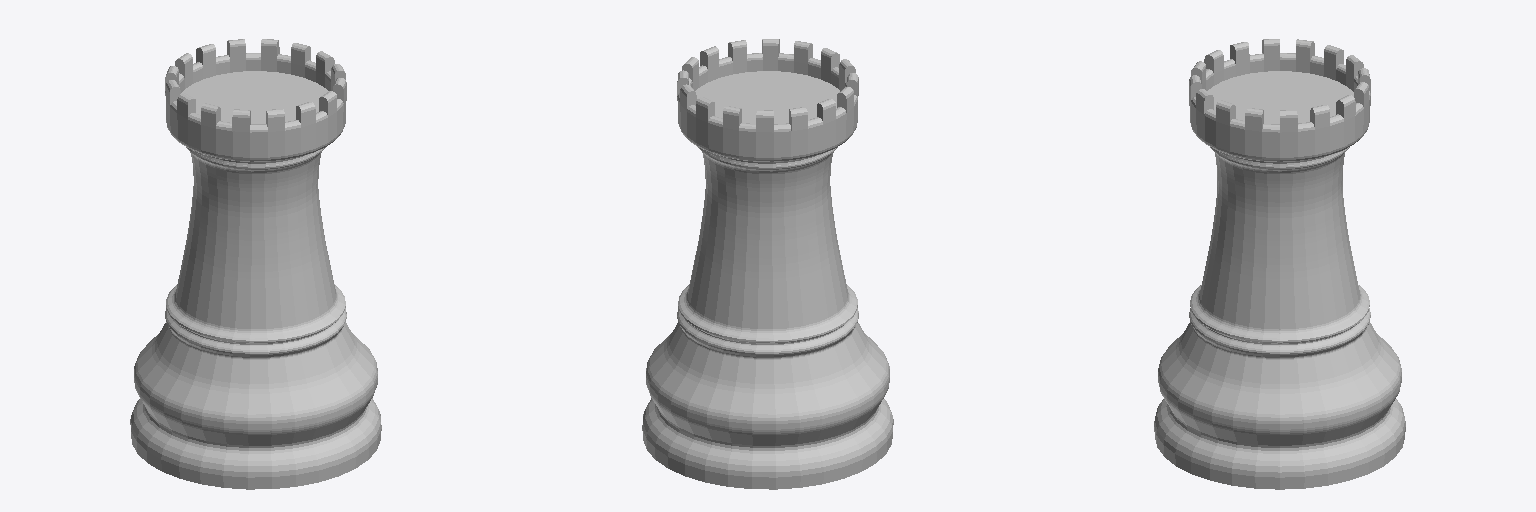
The model's file is rock.obj.
The picture shows the model from 3 angles: view 1: azimuth 30°, elevation 25°; view 2: azimuth 150°, elevation 25°; view 3: azimuth 270°, elevation 25°; orthographic projection.
Visible parts, largest first — view 1: Dark_Rock_2_Cylinder.010; view 2: Dark_Rock_2_Cylinder.010; view 3: Dark_Rock_2_Cylinder.010.
Boxes of the visible parts, <box> form: Dark_Rock_2_Cylinder.010: <box>130,39,381,489</box>; Dark_Rock_2_Cylinder.010: <box>642,39,893,489</box>; Dark_Rock_2_Cylinder.010: <box>1154,39,1405,489</box>.
Size of the model in its own units: 1.28 by 2.02 by 1.28.